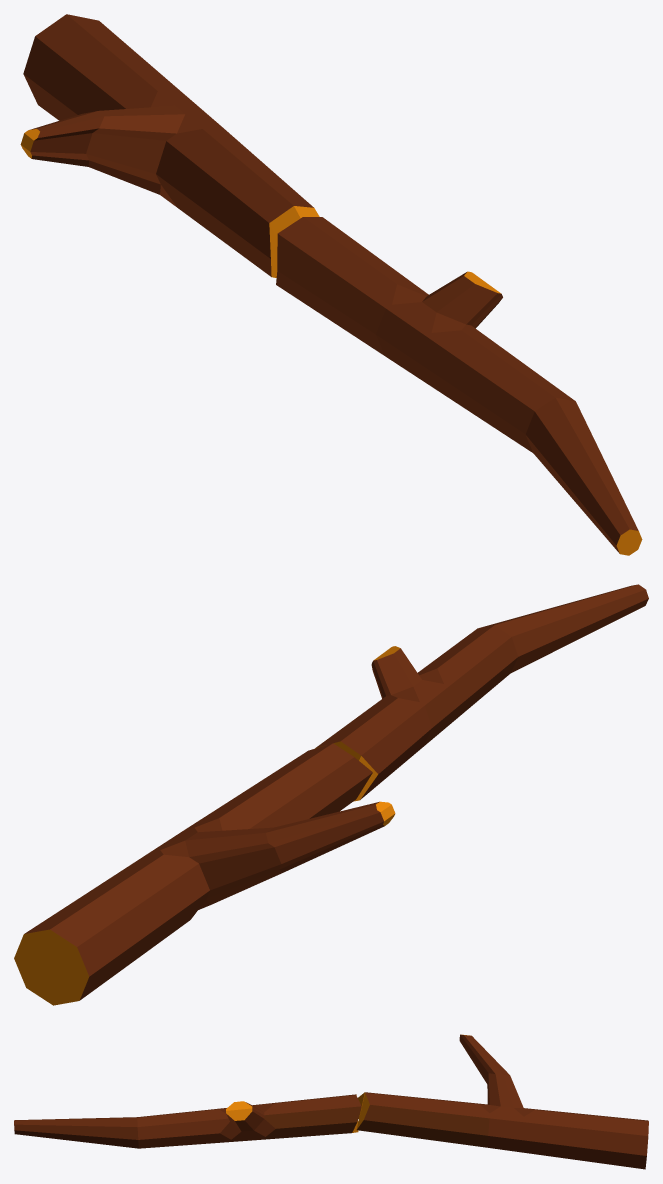
Rendered from Stick_50.fbx.
The picture shows the model from 3 angles, top to bottom: view 1: azimuth 30°, elevation 25°; view 2: azimuth 150°, elevation 25°; view 3: azimuth 270°, elevation 25°; orthographic projection. The views are drawn at different scales.
Visible parts, largest first — view 1: Circle.429, Circle.423; view 2: Circle.423, Circle.429; view 3: Circle.423, Circle.429.
Boxes of the visible parts, x1=… form: Circle.429: x1=276, y1=217, x2=642, y2=555; Circle.423: x1=20, y1=14, x2=319, y2=277; Circle.423: x1=14, y1=743, x2=395, y2=1005; Circle.429: x1=315, y1=584, x2=648, y2=801; Circle.423: x1=356, y1=1034, x2=648, y2=1169; Circle.429: x1=14, y1=1094, x2=361, y2=1148.
Bounding box in the file's own units: 10.19 × 5.9 × 41.42.
